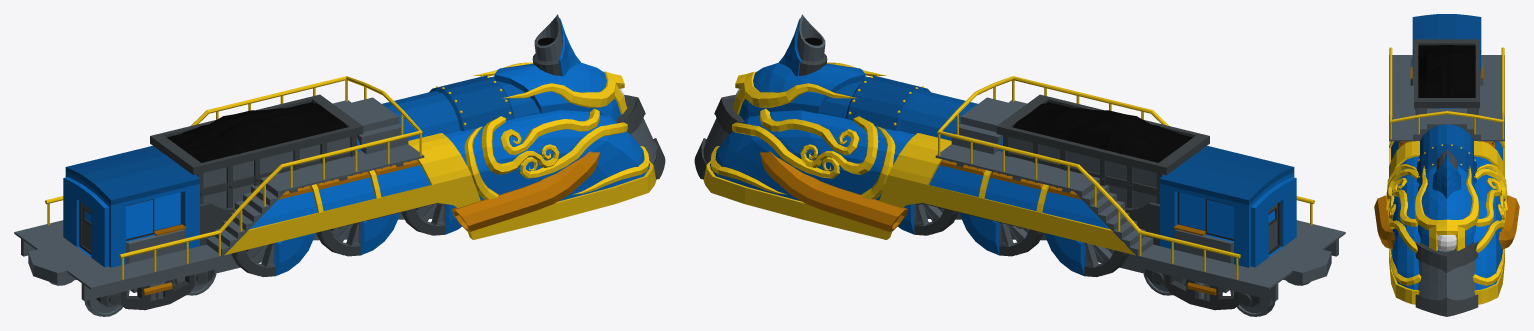
Rendered from LegendaryExpress.obj.
The picture shows the model from 3 angles, left to right: view 1: azimuth 30°, elevation 25°; view 2: azimuth 150°, elevation 25°; view 3: azimuth 270°, elevation 25°; orthographic projection. The views are drawn at different scales.
Visible parts, largest first — view 1: Legendary_Express_Cube.001; view 2: Legendary_Express_Cube.001; view 3: Legendary_Express_Cube.001.
Part boxes in pixels (<box>): Legendary_Express_Cube.001: <box>14,14,665,316</box>; Legendary_Express_Cube.001: <box>694,14,1345,316</box>; Legendary_Express_Cube.001: <box>1374,14,1519,316</box>.
Bounding box in the file's own units: 15.83 × 4.09 × 4.17.
1 material, 1 textured.
